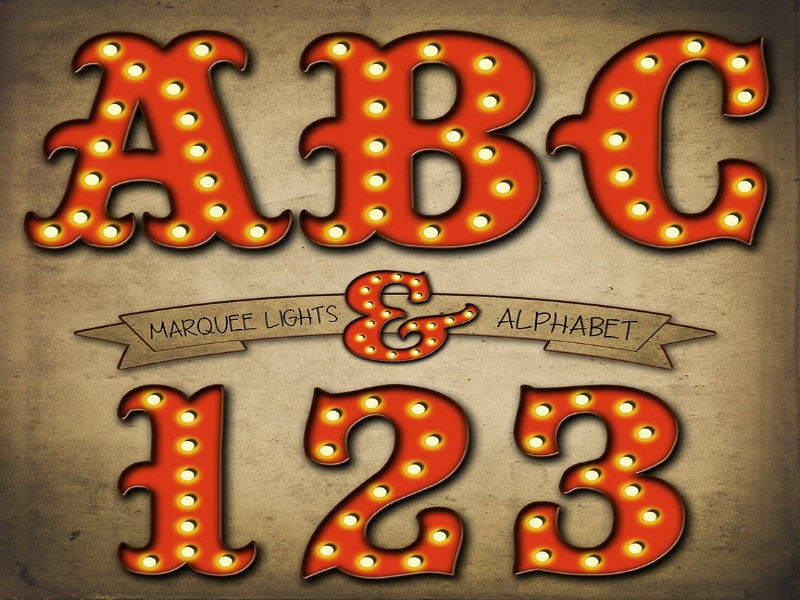letter: (24, 22, 295, 265), (552, 25, 782, 282), (298, 27, 541, 270), (85, 372, 283, 585), (504, 376, 700, 590), (295, 369, 487, 585), (337, 266, 473, 379)
